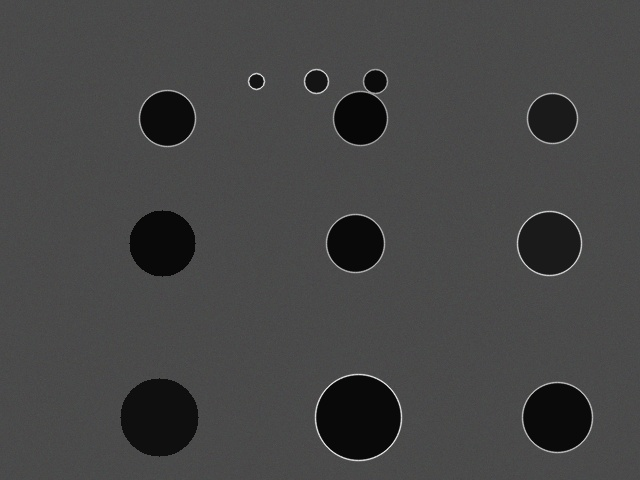hole: (315, 374, 401, 460), (120, 378, 198, 456), (522, 382, 592, 452), (129, 210, 195, 276), (517, 211, 581, 275), (326, 214, 384, 272), (139, 90, 195, 146), (333, 91, 387, 145), (527, 93, 577, 143), (304, 69, 328, 93), (363, 69, 387, 93), (248, 73, 264, 89)
